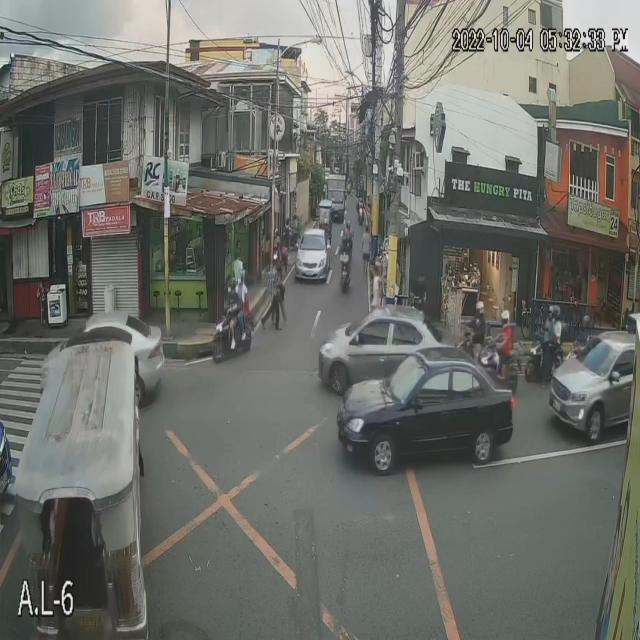Full-Faced: (470, 298, 487, 324), (236, 268, 250, 291), (498, 306, 512, 328), (578, 312, 592, 334), (344, 215, 356, 238), (550, 303, 562, 323), (540, 306, 552, 324), (226, 276, 236, 296)
